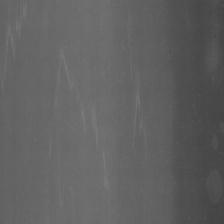silk_spot: (121, 49, 151, 148), (75, 91, 105, 147), (51, 50, 81, 100)
